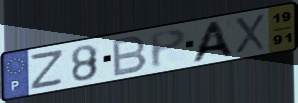8: (69, 44, 100, 83)
A: (188, 19, 237, 65)
B: (111, 33, 149, 78)
P: (148, 27, 189, 71)
X: (233, 12, 268, 55)
Z: (28, 47, 66, 92)
